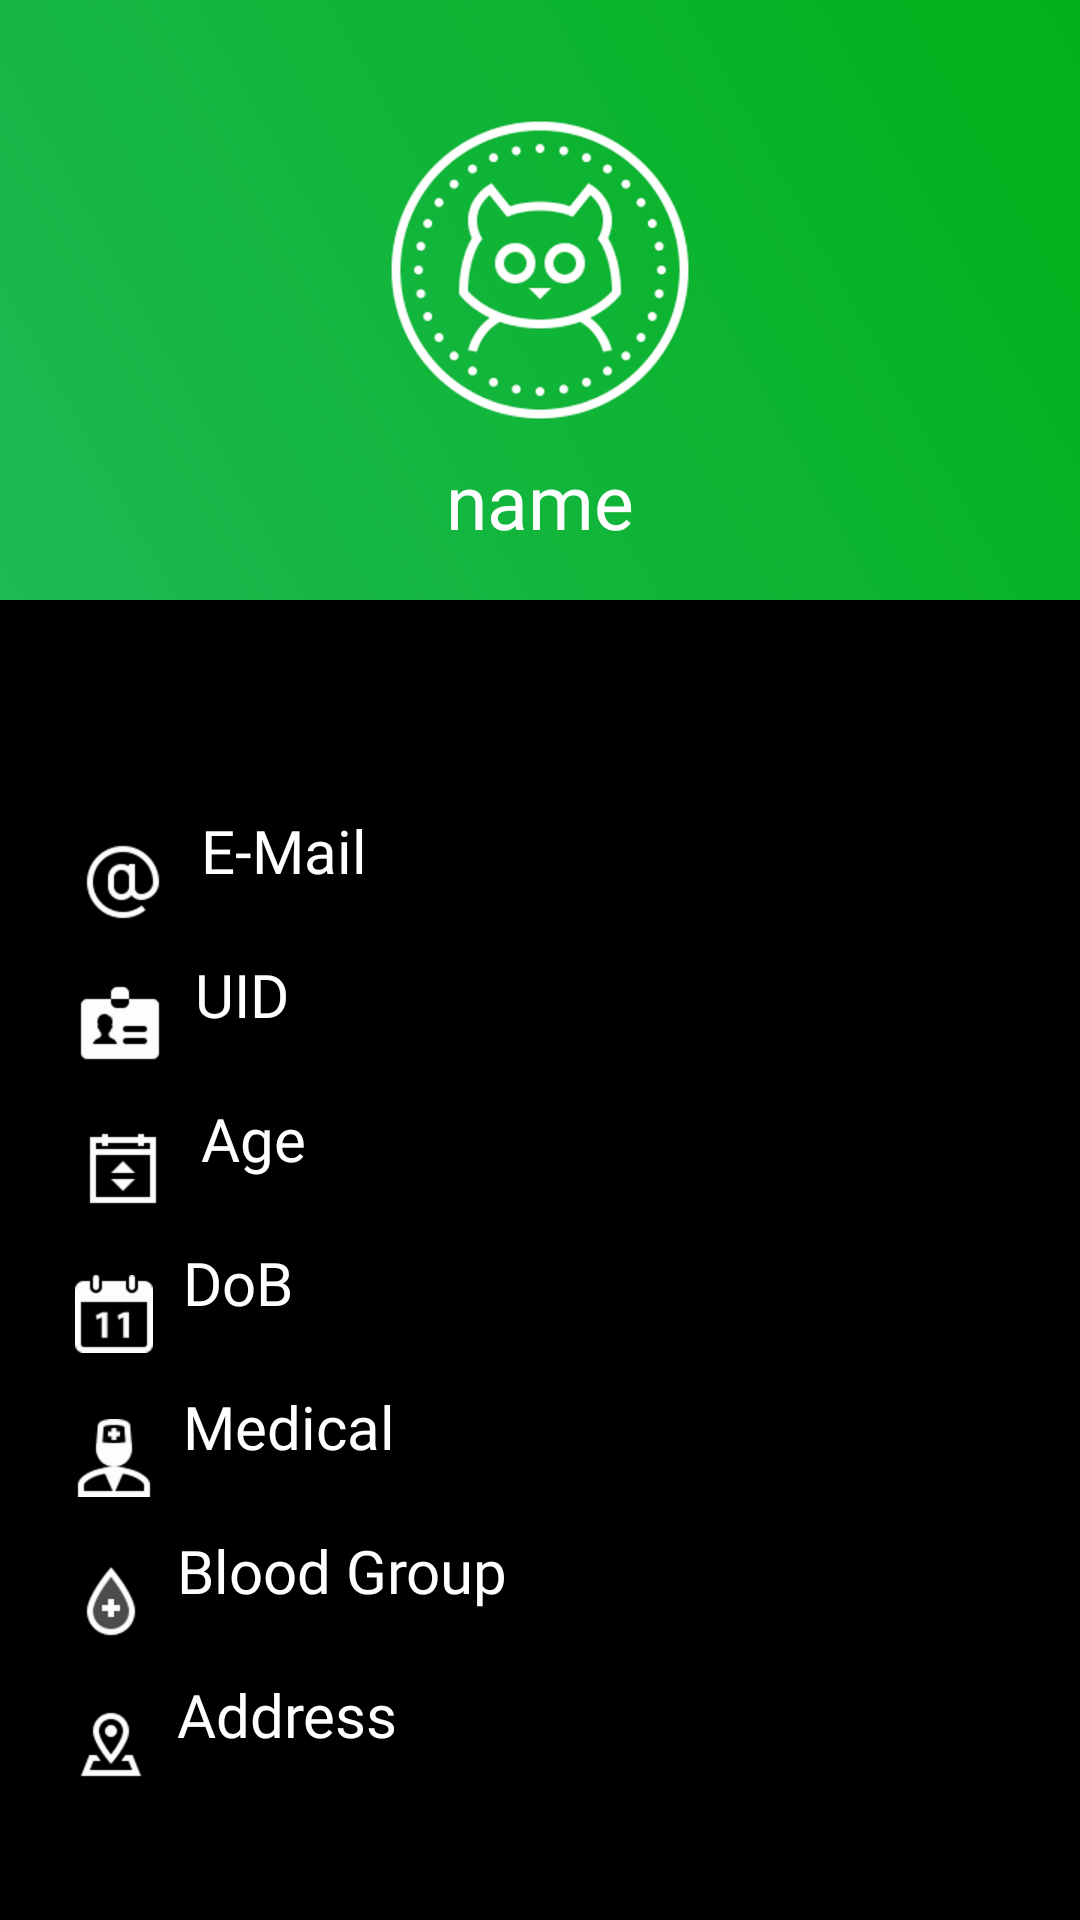

Where icons sit on this 1080×1920 app screen, as (x1, y1, x2, y2):
cat profile: (391, 121, 689, 419)
